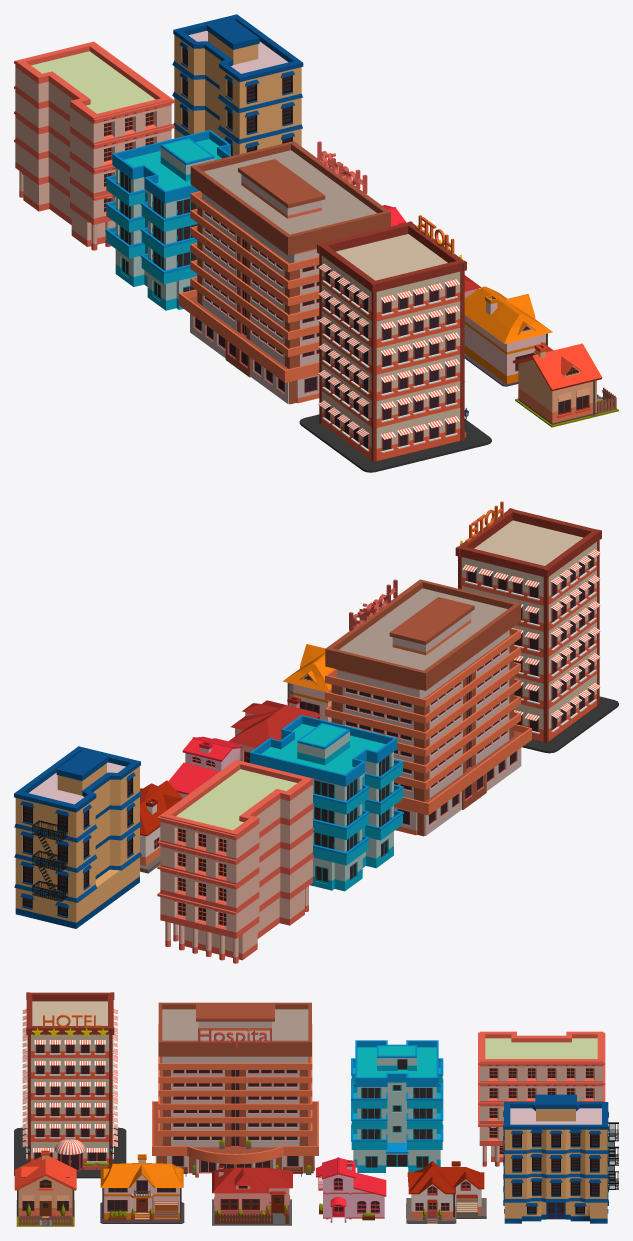
The model's file is city.fbx.
3 renders of one model, top to bottom at view 1: azimuth 30°, elevation 25°; view 2: azimuth 150°, elevation 25°; view 3: azimuth 270°, elevation 25°, orthographic. The views are drawn at different scales.
Visible parts, largest first — view 1: PublicBuilding_1, PublicBuilding_2, PublicBuilding_10, PublicBuilding_9, PublicBuilding_8, PublicBuilding_3, PublicBuilding_4, Hospital; view 2: PublicBuilding_2, PublicBuilding_10, PublicBuilding_1, PublicBuilding_9, PublicBuilding_8, PublicBuilding_5, PublicBuilding_6, PublicBuilding_7, PublicBuilding_4, Hospital; view 3: PublicBuilding_2, PublicBuilding_1, PublicBuilding_9, PublicBuilding_8, PublicBuilding_10, PublicBuilding_4, PublicBuilding_5, PublicBuilding_7, PublicBuilding_3, PublicBuilding_6, Hospital.
Boxes of the visible parts, x1,y1,x2,y2 form: PublicBuilding_1: (299, 215, 491, 472); PublicBuilding_2: (179, 141, 390, 404); PublicBuilding_10: (14, 41, 174, 250); PublicBuilding_9: (172, 14, 303, 155); PublicBuilding_8: (105, 130, 231, 310); PublicBuilding_3: (512, 342, 618, 427); PublicBuilding_4: (464, 286, 552, 386); Hospital: (317, 141, 367, 194); PublicBuilding_2: (325, 579, 531, 836); PublicBuilding_10: (157, 760, 313, 963); PublicBuilding_1: (455, 501, 618, 753); PublicBuilding_9: (14, 746, 141, 928); PublicBuilding_8: (250, 715, 403, 891); PublicBuilding_5: (229, 696, 321, 762); PublicBuilding_6: (168, 736, 242, 797); PublicBuilding_7: (140, 780, 183, 873); PublicBuilding_4: (283, 644, 333, 721); Hospital: (349, 579, 397, 630); PublicBuilding_2: (152, 1002, 318, 1177); PublicBuilding_1: (14, 992, 126, 1178); PublicBuilding_9: (503, 1094, 618, 1223); PublicBuilding_8: (351, 1040, 443, 1172); PublicBuilding_10: (478, 1031, 605, 1166); PublicBuilding_4: (100, 1154, 184, 1223); PublicBuilding_5: (212, 1165, 292, 1225); PublicBuilding_7: (406, 1161, 486, 1223); PublicBuilding_3: (14, 1150, 76, 1226); PublicBuilding_6: (316, 1157, 386, 1222); Hospital: (198, 1027, 271, 1047).
Size of the model in its own units: 1367 by 1010 by 3589.
